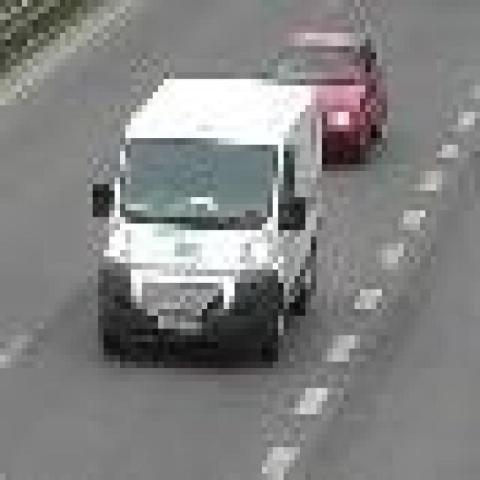car: (262, 26, 388, 164)
van: (93, 69, 322, 358)
